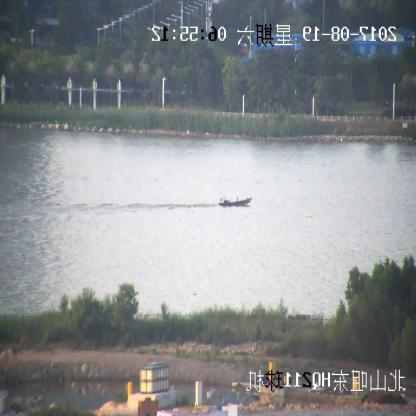Fishing Boat: (219, 195, 251, 208)
